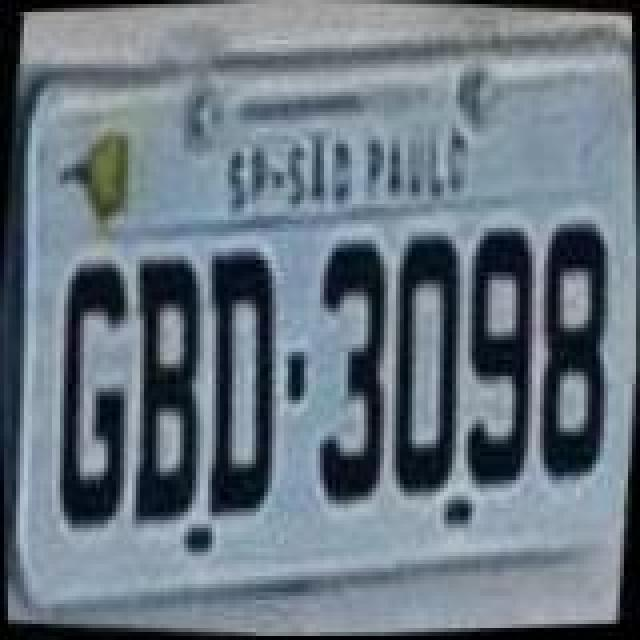3: (292, 230, 412, 510)
8: (520, 216, 632, 492)
9: (440, 216, 552, 496)
B: (108, 246, 220, 530)
D: (180, 244, 300, 524)
G: (36, 248, 148, 532)
O: (368, 224, 480, 504)
